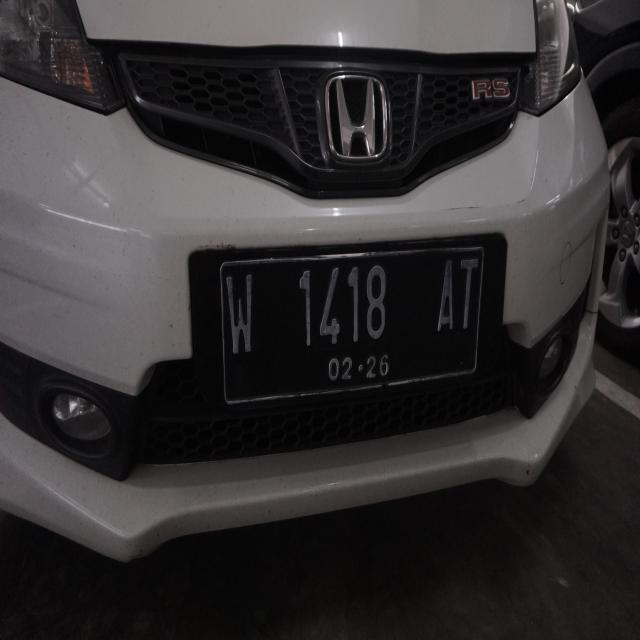1: (295, 263, 321, 358), (342, 262, 366, 356)
4: (314, 260, 346, 353)
8: (362, 259, 390, 352)
A: (430, 251, 459, 342)
T: (454, 254, 484, 347)
W: (220, 270, 262, 370)
